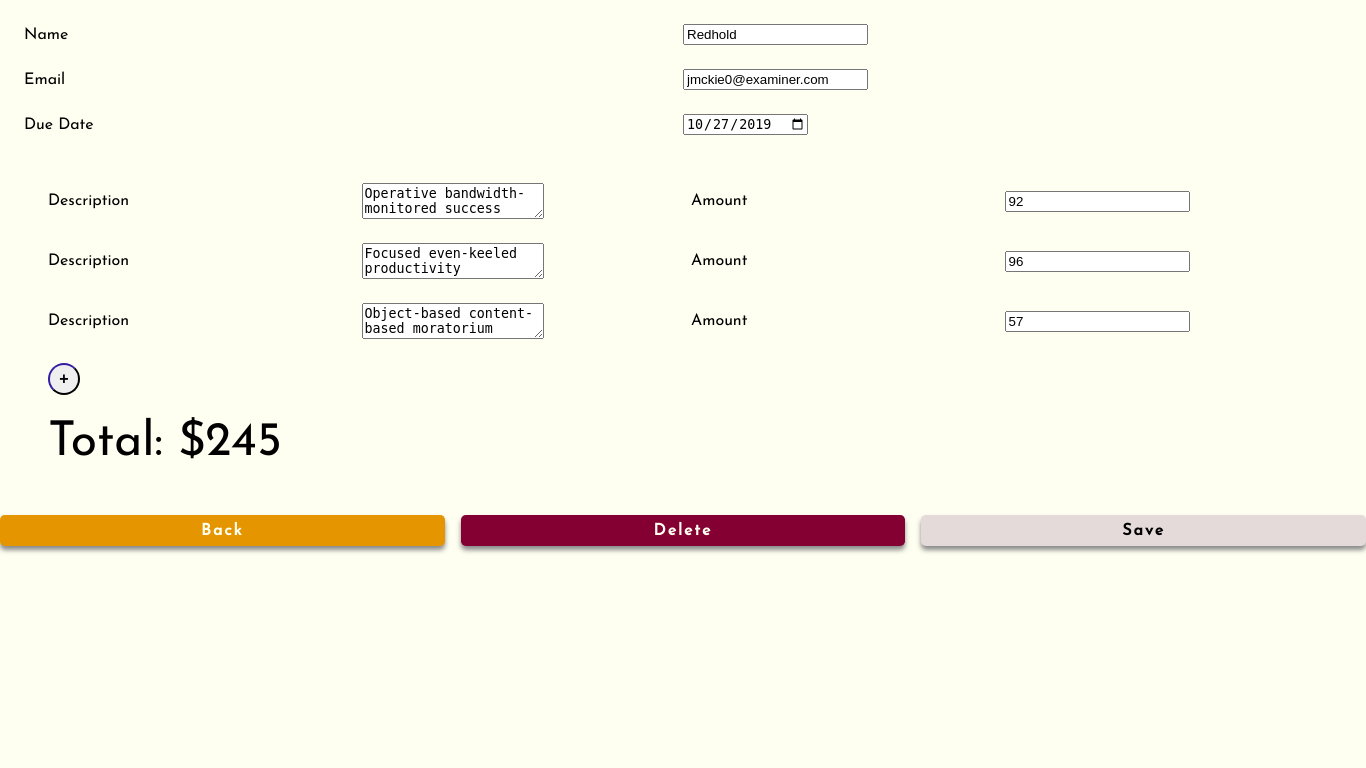
Test case: <EditInvoicePage/> › page finished loading › EditInvoiceForm › should create placeholder InvoiceItem
Click the button "+": (64, 379) top-left (48, 363), bottom-right (80, 395)
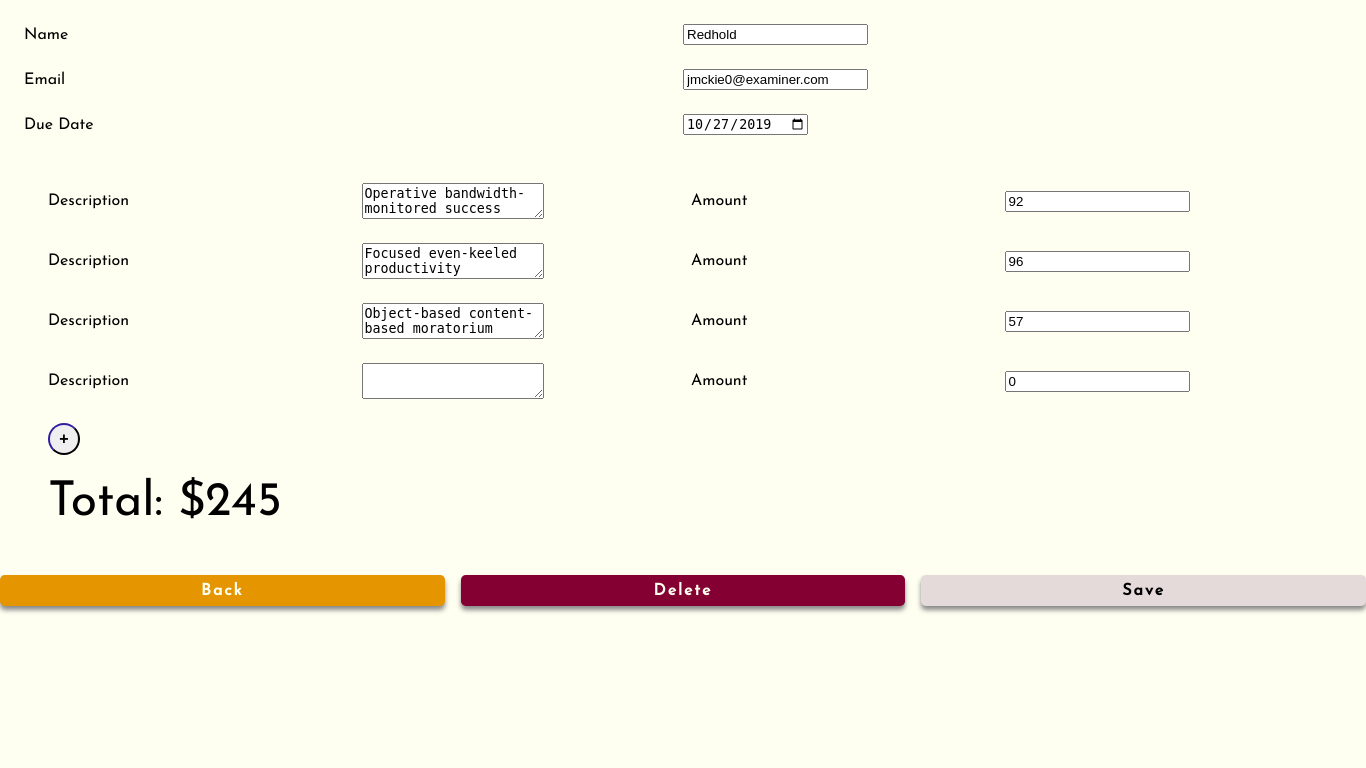
Expected: the 4th text box labelled "Description" is empty, top-left (362, 363), bottom-right (544, 399)
Expected: the number of elements with test id "invoice-item-overview" is 4, top-left (48, 183), bottom-right (1318, 219); top-left (48, 243), bottom-right (1318, 279); top-left (48, 303), bottom-right (1318, 339); top-left (48, 363), bottom-right (1318, 399)
Expected: the 4th number field labelled "Amount" holds "0", top-left (1004, 371), bottom-right (1190, 392)
